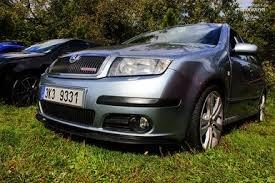license-plates: (45, 88, 83, 106)
